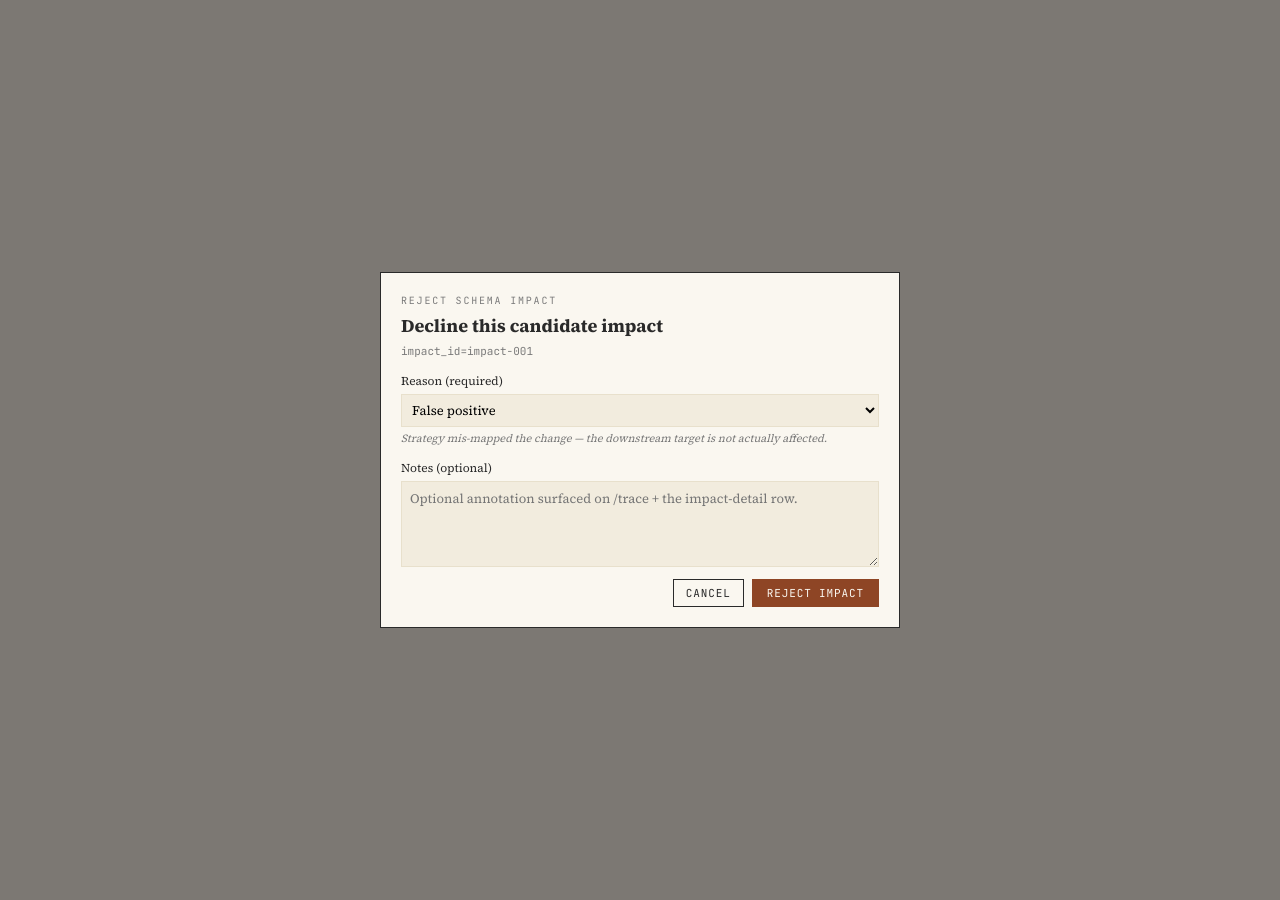
Test case: SchemaImpactRejectionModal › surfaces an error banner when the action returns ok=false
Step 1. Click the button with test id "schema-impact-reject-submit" → click(815, 593), box [752, 579, 879, 607]
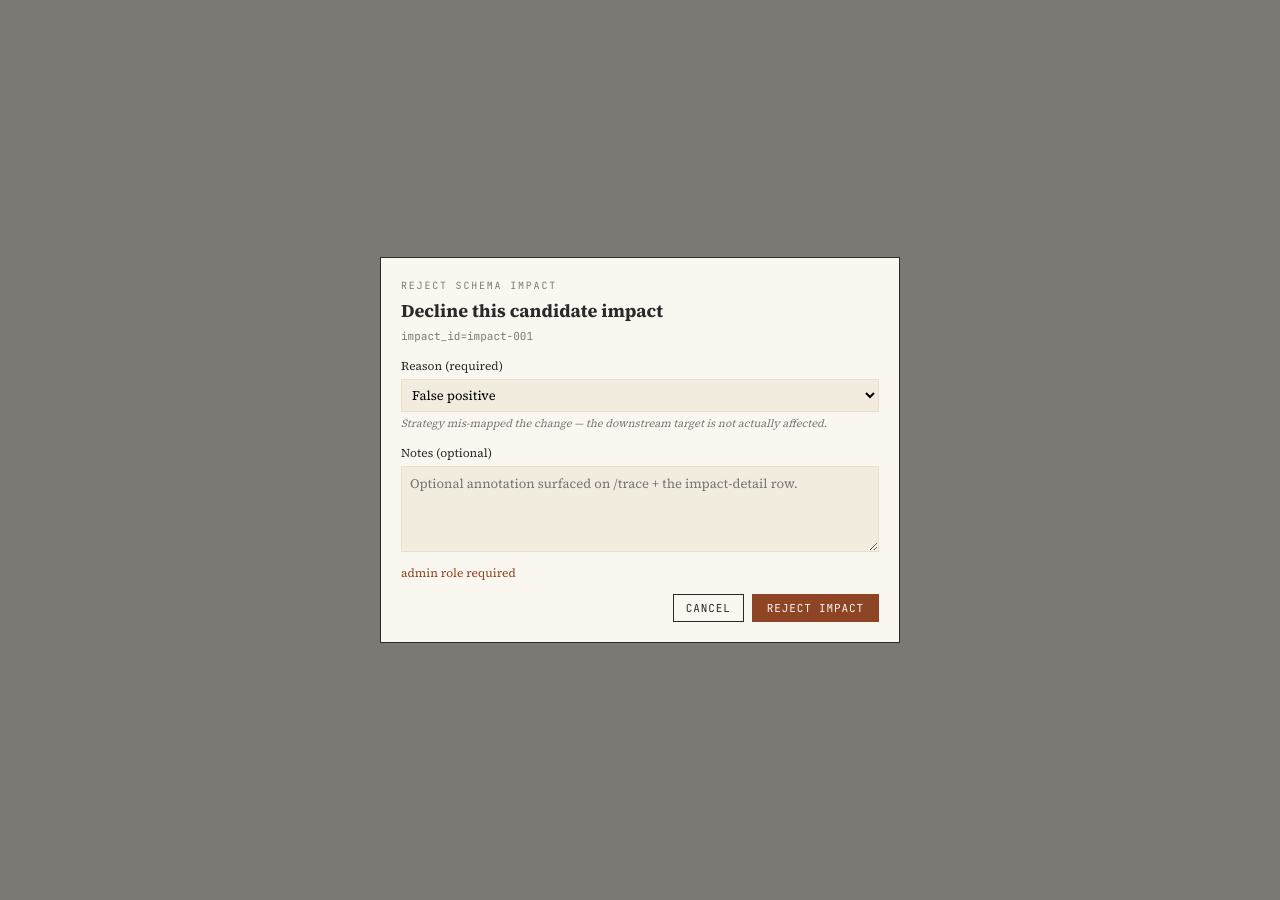
Result: the message with test id "schema-impact-reject-error" reads "admin role required" at [401, 565, 516, 581]
